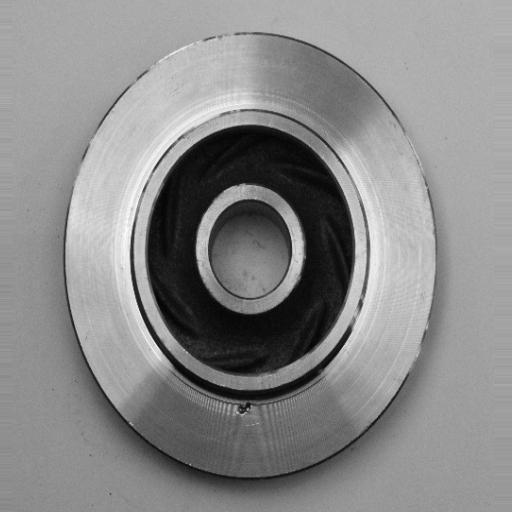crack: (224, 386, 272, 423)
scratch: (169, 102, 258, 137)
unpolished_casting: (62, 28, 443, 483)
